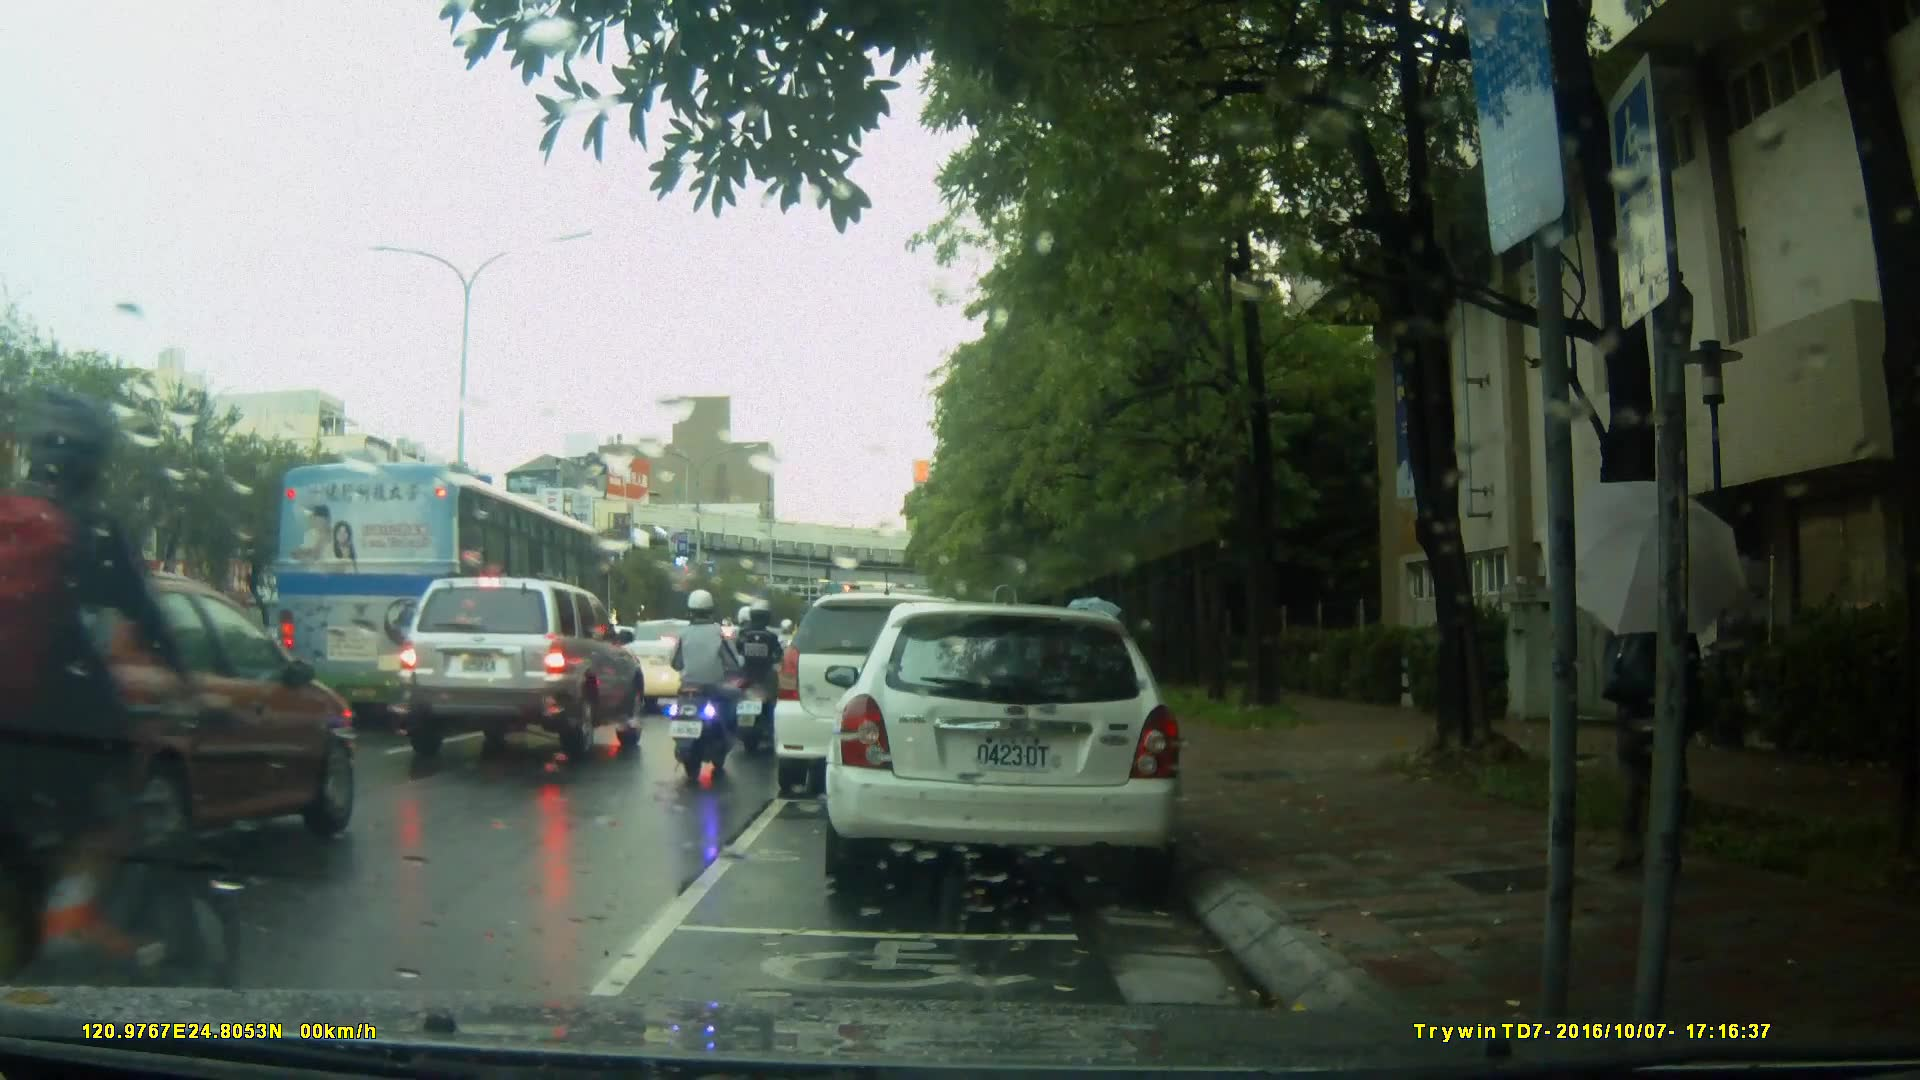pedestrian: (1616, 522, 1749, 894)
rider: (1, 379, 256, 1071), (664, 585, 740, 784), (729, 602, 789, 757), (723, 601, 774, 725)
vehicle: (1, 575, 371, 896), (835, 594, 1194, 898), (273, 462, 611, 740), (776, 590, 1026, 784), (390, 575, 650, 758)
